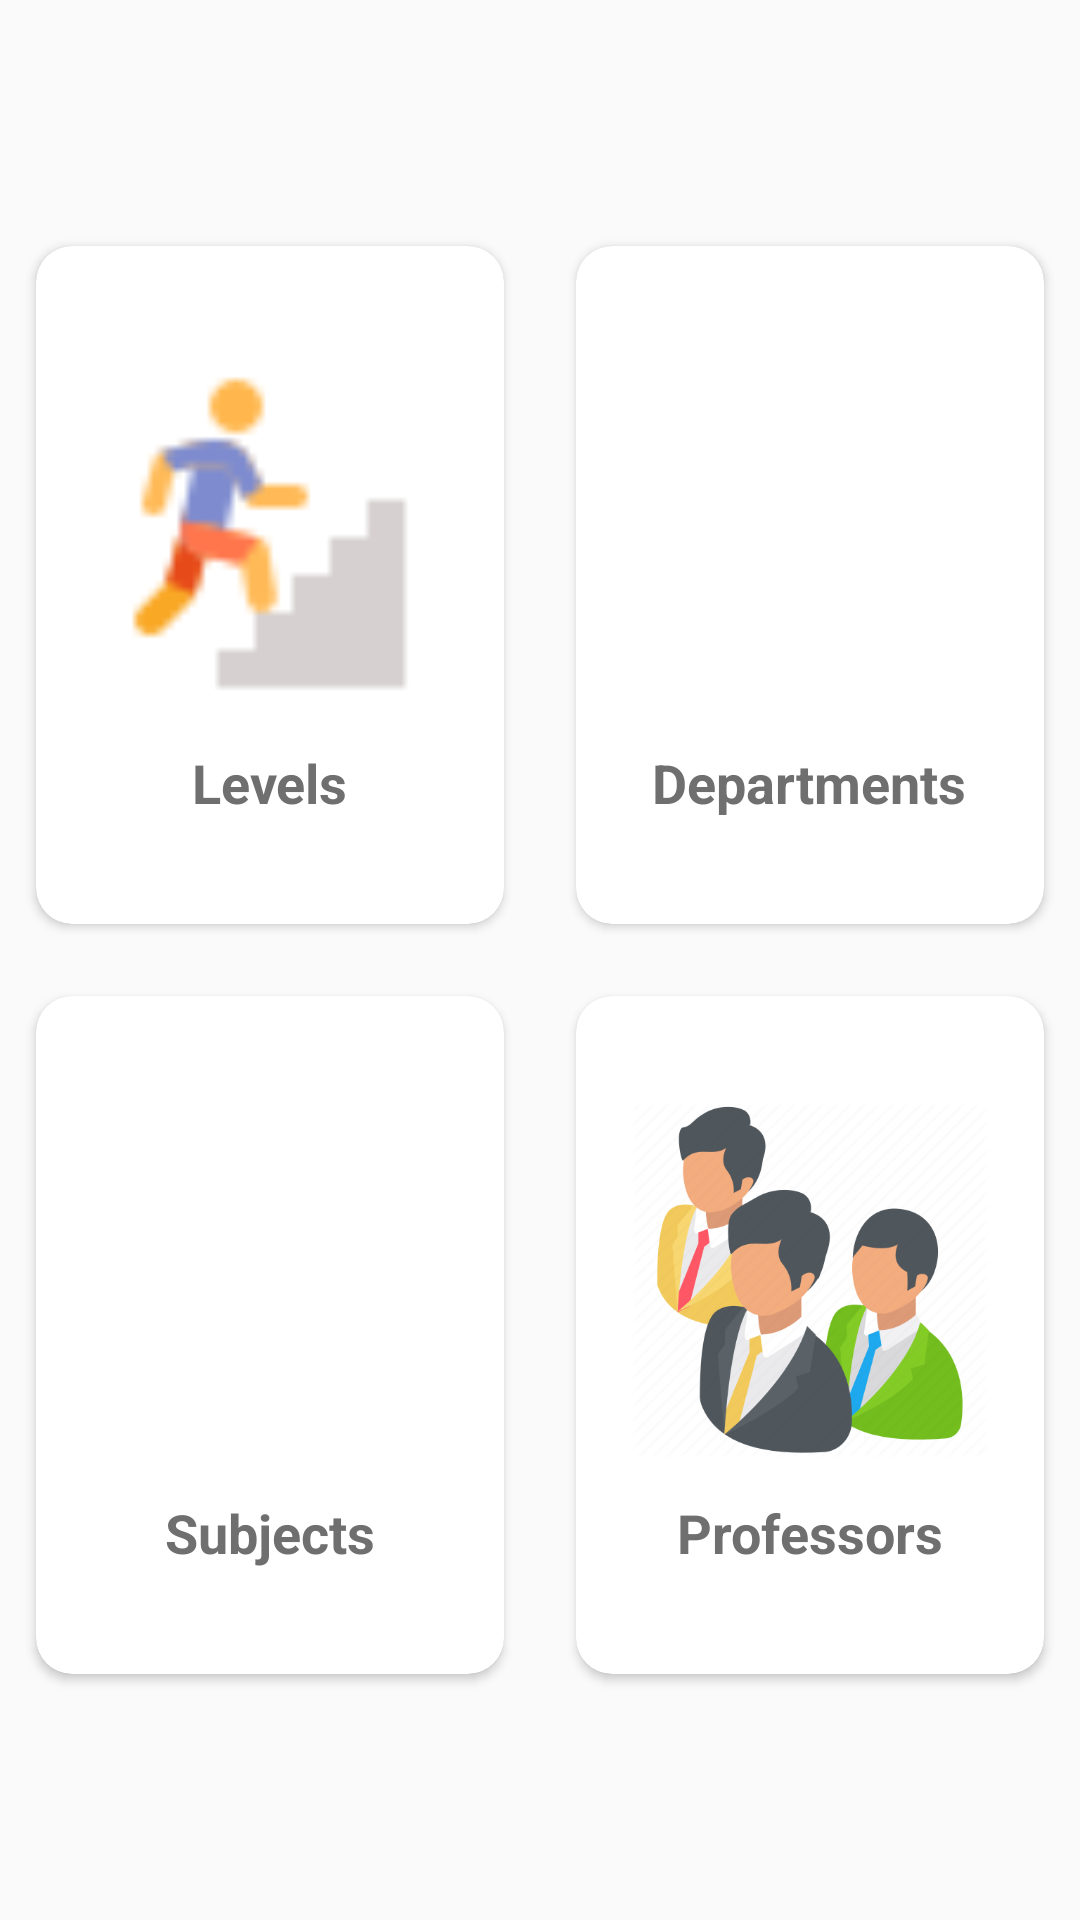

Where icons sit on this 1080px x 1920px app screen, as (x1, y1, x2, y2):
all employees emp: (657, 1106, 963, 1453)
